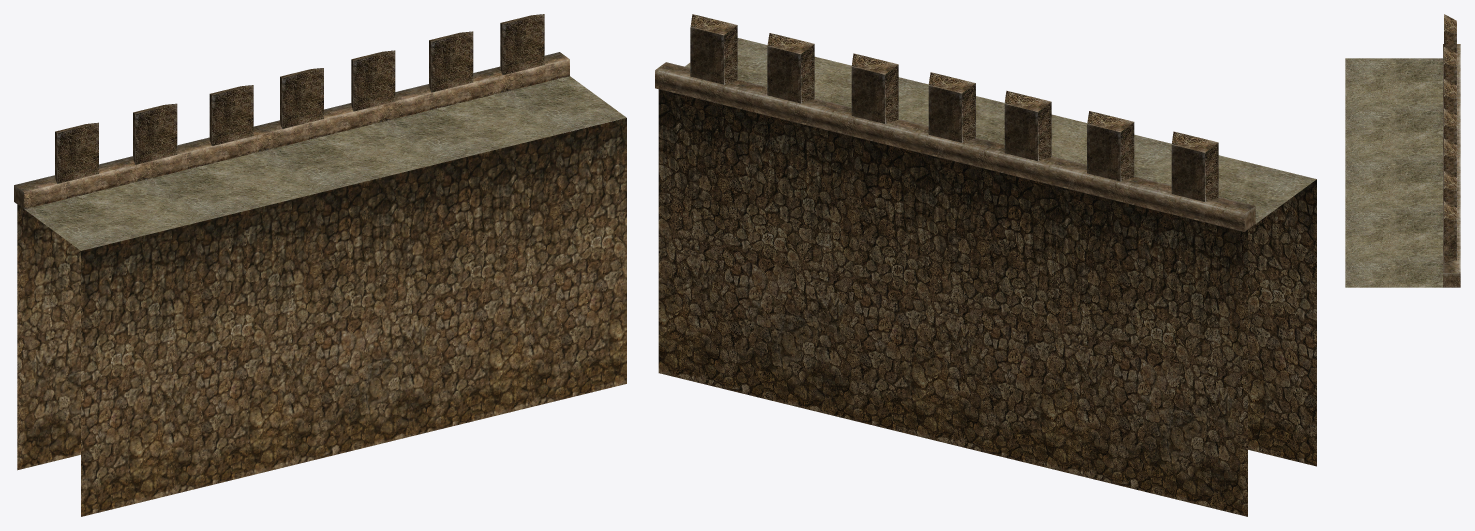
Rendered from hrt_twall1.glb.
3 renders of one model, left to right at view 1: azimuth 30°, elevation 25°; view 2: azimuth 150°, elevation 25°; view 3: azimuth 270°, elevation 25°, orthographic. The views are drawn at different scales.
Visible parts, largest first — view 1: hrt_twall1; view 2: hrt_twall1; view 3: hrt_twall1.
Boxes of the visible parts, bbox=[...] form: hrt_twall1: bbox=[14, 14, 626, 516]; hrt_twall1: bbox=[655, 14, 1316, 516]; hrt_twall1: bbox=[1345, 14, 1460, 287].
Size of the model in its own units: 11.65 by 6.81 by 2.48.
Materials: 7 (7 with a texture image).
